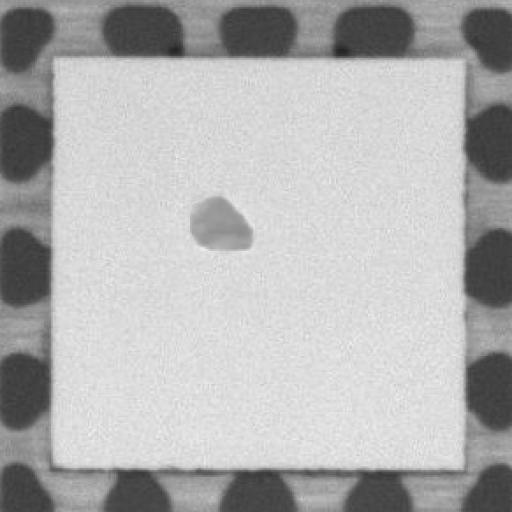DIE_INK: (179, 186, 256, 257)
